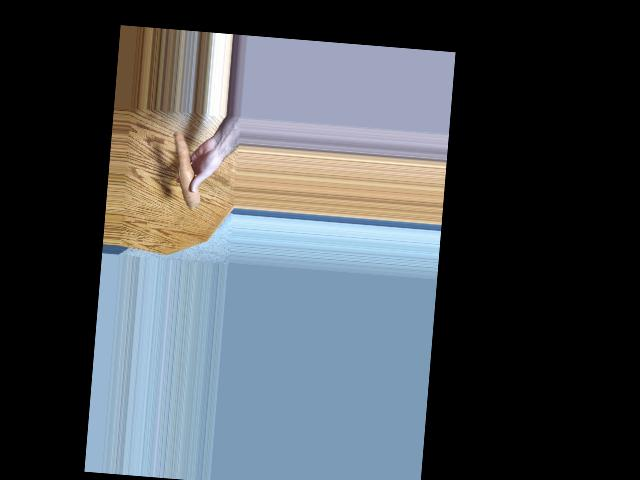sweet_potato: (174, 127, 201, 207)
